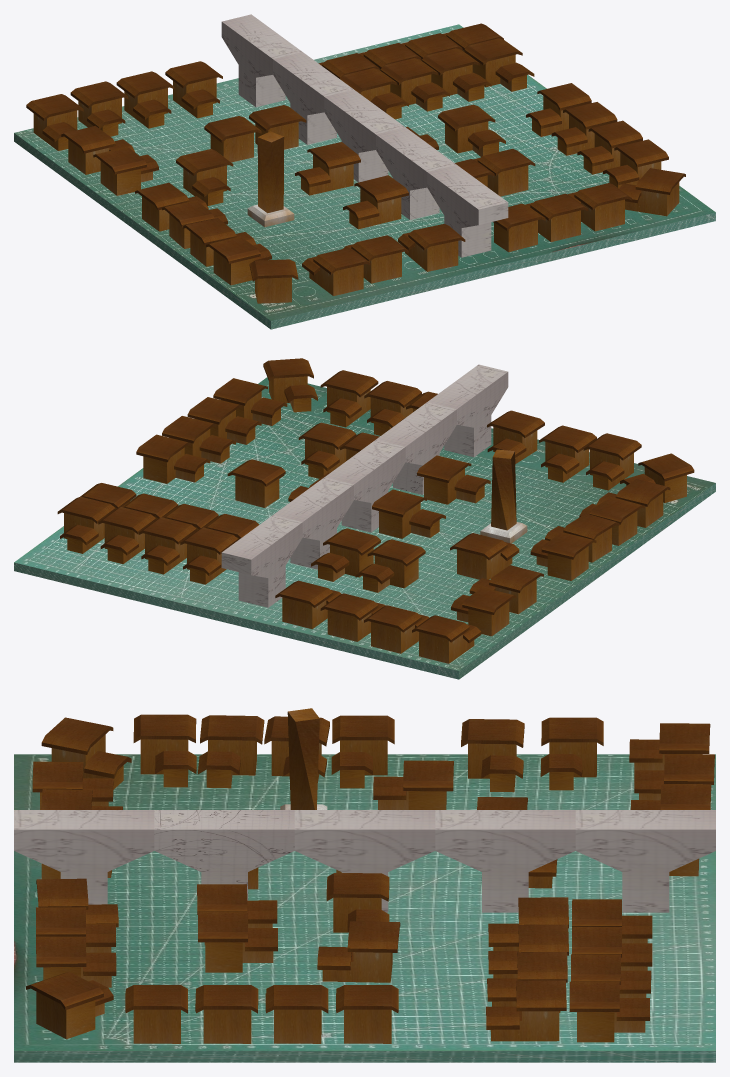
The model's file is bridge.gltf.
3 views of the same model, one above another, from view 1: azimuth 30°, elevation 25°; view 2: azimuth 150°, elevation 25°; view 3: azimuth 270°, elevation 25° (orthographic). The views are drawn at different scales.
Visible parts, largest first — view 1: Plane, Cube.033, Cube.016, Cube.015, Cube.009, Cube.014, Cube.013, Cube.023, Cube.003, Cube.006, Cube.031, Cube.019 (+32 smaller); view 2: Plane, Cube.016, Cube.033, Cube.014, Cube.015, Cube.009, Cube.013, Cube.034, Cube.006, Cube.021, Cube.003, Cube.045 (+31 smaller); view 3: Plane, Cube.016, Cube.015, Cube.033, Cube.009, Cube.014, Cube.031, Cube.023, Cube.030, Cube.011, Cube.017, Cube.038 (+30 smaller).
Part boxes in pixels (left/top/right/bottom): Plane: left=14, top=24, right=715, bottom=329; Cube.033: left=427, top=165, right=508, bottom=257; Cube.016: left=221, top=14, right=302, bottom=107; Cube.015: left=273, top=52, right=353, bottom=144; Cube.009: left=376, top=127, right=456, bottom=219; Cube.014: left=324, top=89, right=404, bottom=182; Cube.013: left=247, top=131, right=294, bottom=227; Cube.023: left=438, top=104, right=505, bottom=156; Cube.003: left=343, top=175, right=408, bottom=229; Cube.006: left=295, top=142, right=360, bottom=195; Cube.031: left=464, top=38, right=534, bottom=91; Cube.019: left=302, top=247, right=370, bottom=295; Plane: left=14, top=377, right=715, bottom=679; Cube.016: left=221, top=515, right=302, bottom=607; Cube.033: left=428, top=364, right=508, bottom=457; Cube.014: left=325, top=439, right=405, bottom=532; Cube.015: left=273, top=477, right=353, bottom=569; Cube.009: left=376, top=402, right=456, bottom=494; Cube.013: left=480, top=449, right=527, bottom=543; Cube.034: left=136, top=434, right=210, bottom=483; Cube.006: left=372, top=489, right=445, bottom=538; Cube.021: left=355, top=539, right=425, bottom=592; Cube.003: left=417, top=455, right=490, bottom=504; Cube.045: left=311, top=528, right=380, bottom=581; Plane: left=14, top=754, right=715, bottom=1062; Cube.016: left=575, top=810, right=715, bottom=912; Cube.015: left=435, top=810, right=575, bottom=912; Cube.033: left=14, top=810, right=154, bottom=904; Cube.009: left=154, top=810, right=294, bottom=900; Cube.014: left=294, top=810, right=435, bottom=912; Cube.031: left=486, top=980, right=566, bottom=1041; Cube.023: left=317, top=921, right=400, bottom=982; Cube.030: left=569, top=981, right=649, bottom=1042; Cube.011: left=198, top=911, right=277, bottom=972; Cube.017: left=198, top=715, right=264, bottom=788; Cube.038: left=26, top=971, right=113, bottom=1039.
Bounding box in the file's own units: 30 × 5.74 × 30.
Materials: 46 (46 with a texture image).
